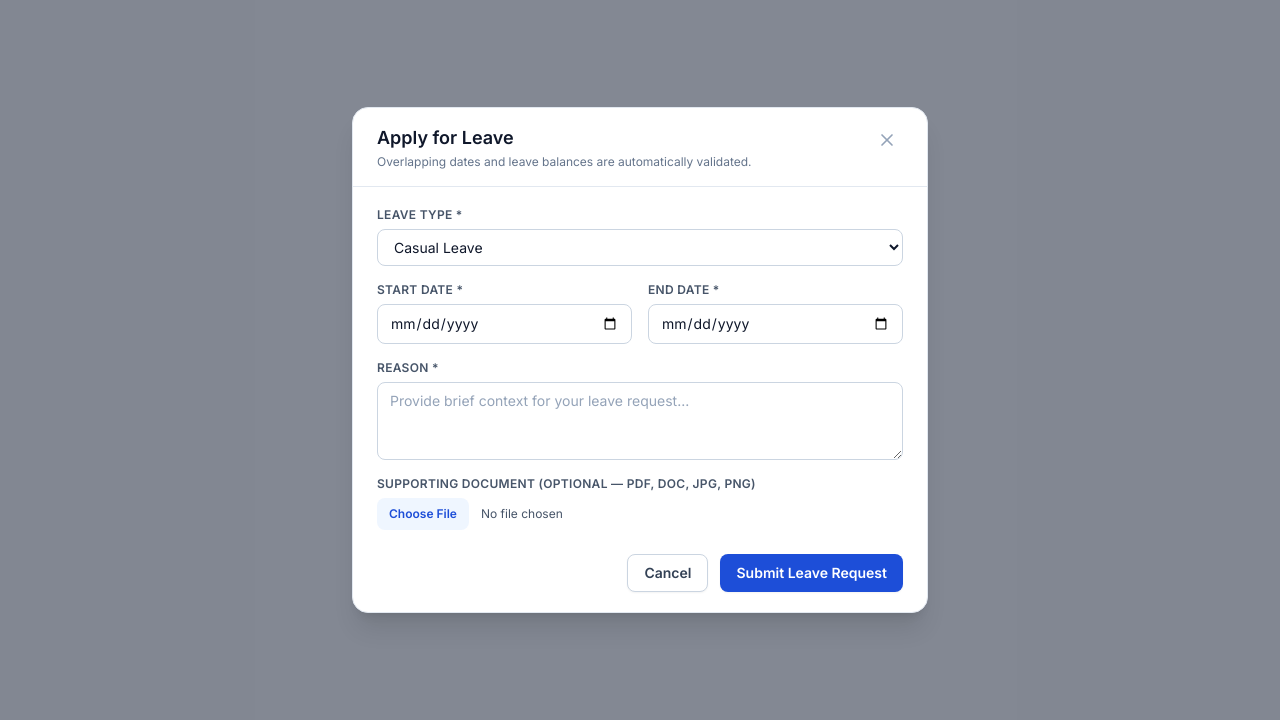
Frontend Component & Form Validation Tests › validates required fields in LeaveFormModal
What coordinates should you click on to do the following:
click the button "Submit Leave Request"
I would click on:
 (812, 573)
Its box is [720,554,903,592].
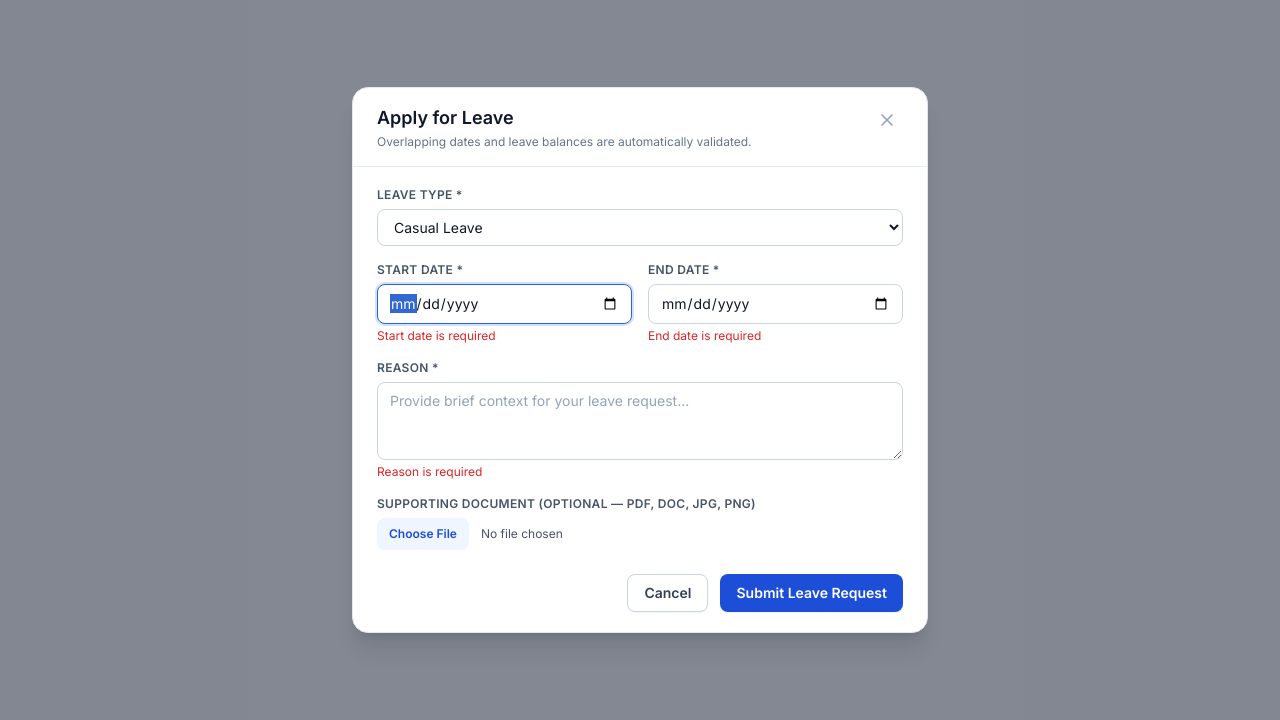
Check: the text "Start date is required" is shown, box [377,328,496,343]
Check: the text "End date is required" is shown, box [648,328,761,343]
Check: the text "Reason is required" is shown, box [377,464,482,479]
